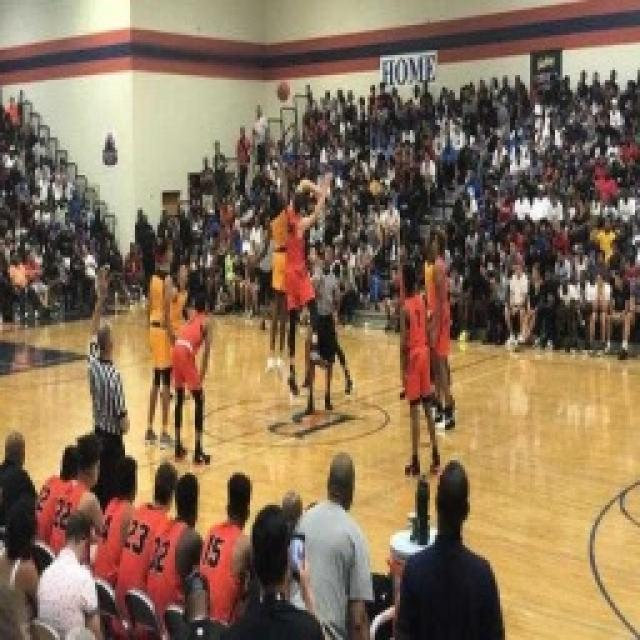rim: (275, 79, 291, 104)
